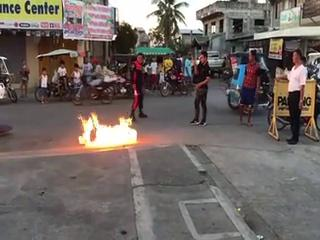Fire: (74, 106, 140, 148)
